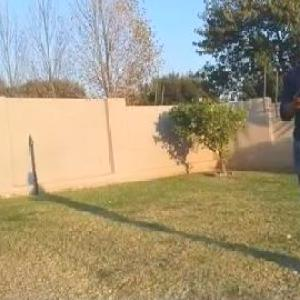follow: (268, 5, 299, 288)
